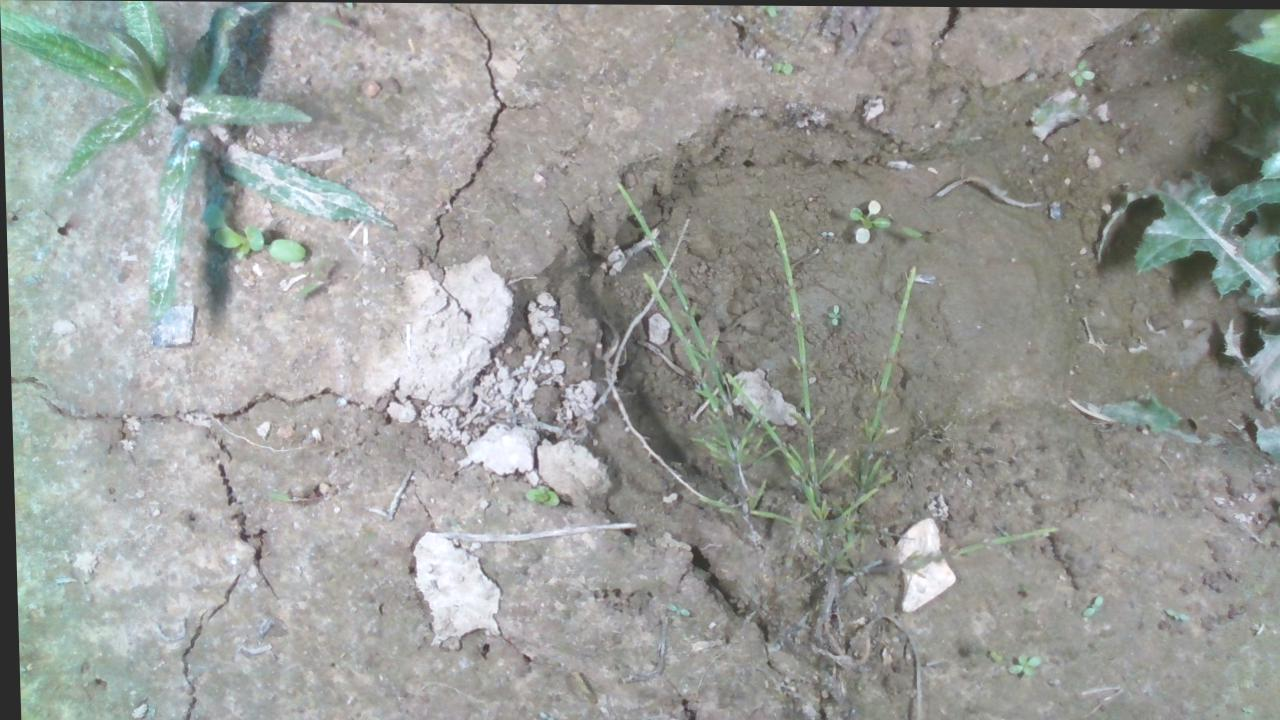weed: (843, 195, 893, 238), (998, 651, 1040, 674), (516, 482, 558, 505), (1075, 592, 1101, 615), (821, 302, 840, 323), (1159, 606, 1188, 618), (981, 647, 998, 661)
